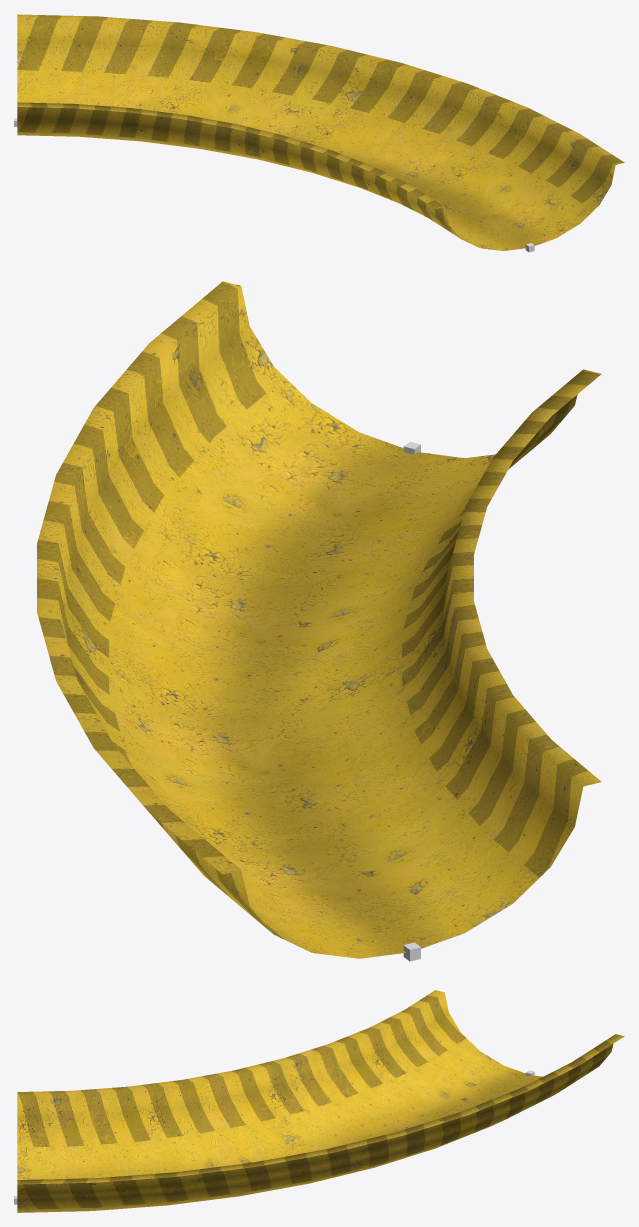
Rendered from roadBend60.L.fbx.
The picture shows the model from 3 angles, top to bottom: view 1: azimuth 30°, elevation 25°; view 2: azimuth 150°, elevation 25°; view 3: azimuth 270°, elevation 25°; orthographic projection. The views are drawn at different scales.
Parts seen in each view (by area): view 1: MESH roadBend60.L; view 2: MESH roadBend60.L; view 3: MESH roadBend60.L.
Part boxes in pixels (x1,y1,x2,y2): MESH roadBend60.L: (17, 14, 624, 250); MESH roadBend60.L: (37, 281, 601, 958); MESH roadBend60.L: (17, 990, 624, 1212).
Size of what is drawn, in the model's own units: 3562 by 553 by 4728.
